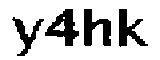4: (43, 7, 78, 48)
h: (80, 4, 113, 48)
k: (117, 7, 149, 52)
y: (7, 12, 44, 60)
